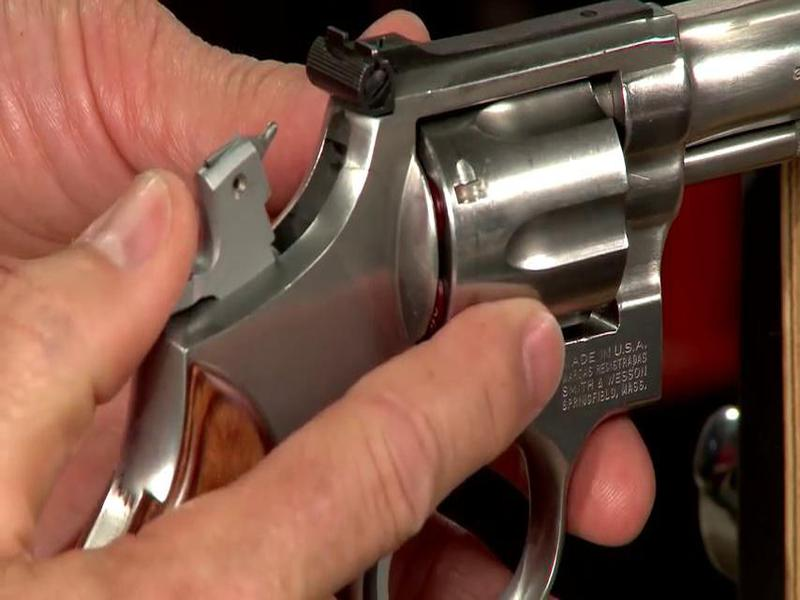Revolver: (153, 1, 796, 521)
